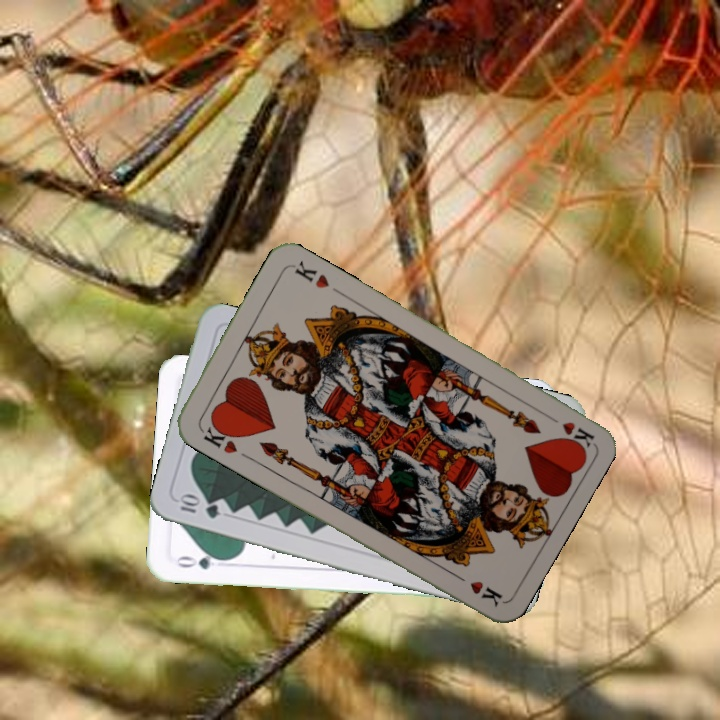G10: (173, 492, 222, 521)
GO: (171, 549, 230, 573)
HK: (540, 409, 596, 450), (196, 417, 241, 457)
